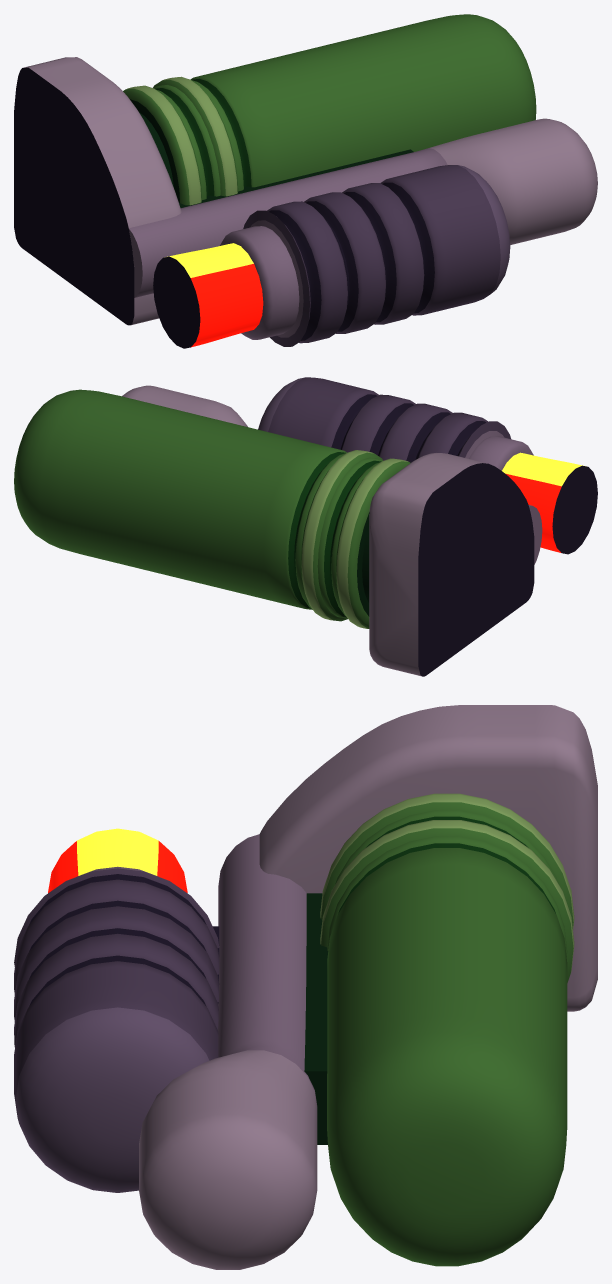
Rendered from tank_pod_right_207.glb.
3 views of the same model, one above another, from view 1: azimuth 30°, elevation 25°; view 2: azimuth 150°, elevation 25°; view 3: azimuth 270°, elevation 25° (orthographic). The views are drawn at different scales.
Visible parts, largest first — view 1: tank_r.001, coil_r.001, block.001, rail_r.001, core.001, web_tank_r.001; view 2: tank_r.001, block.001, coil_r.001, core.001, rail_r.001; view 3: tank_r.001, coil_r.001, rail_r.001, block.001, core.001, web_tank_r.001.
Boxes of the visible parts, <box> form: tank_r.001: <box>123,14,536,205</box>; coil_r.001: <box>220,165,510,346</box>; block.001: <box>14,57,181,325</box>; rail_r.001: <box>128,118,597,297</box>; core.001: <box>153,243,263,348</box>; web_tank_r.001: <box>179,149,413,207</box>; tank_r.001: <box>14,389,410,628</box>; block.001: <box>369,453,534,676</box>; coil_r.001: <box>258,377,533,470</box>; core.001: <box>502,452,597,554</box>; rail_r.001: <box>122,385,542,564</box>; tank_r.001: <box>320,793,574,1266</box>; coil_r.001: <box>14,866,219,1192</box>; rail_r.001: <box>139,834,317,1269</box>; block.001: <box>259,705,597,1011</box>; core.001: <box>48,828,187,892</box>; web_tank_r.001: <box>304,893,328,1144</box>.
Bounding box in the file's own units: 23.65 × 9.55 × 18.
